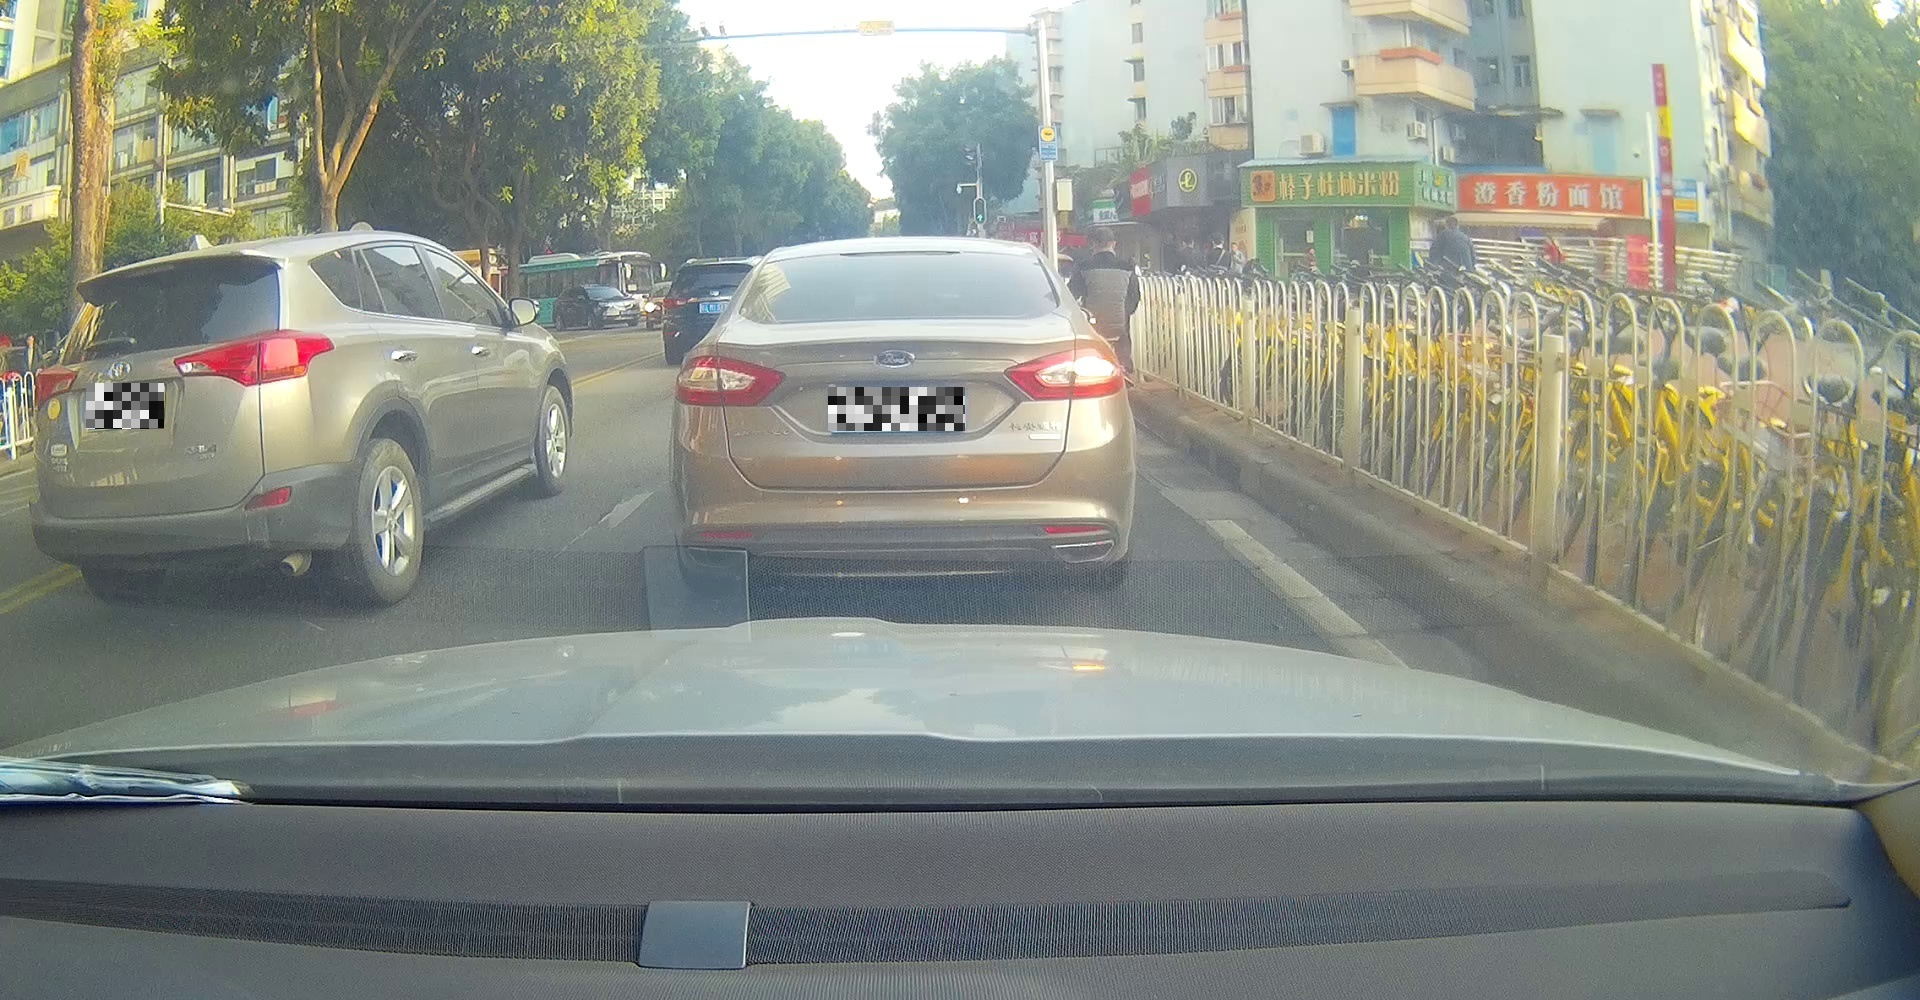L_light: (670, 354, 783, 409), (33, 362, 77, 409)
R_light: (171, 329, 334, 386), (1002, 345, 1128, 402)
T_light: (841, 251, 960, 258), (124, 272, 175, 280)
day-no: (668, 235, 1137, 588), (27, 246, 342, 605)
plate_1: (86, 383, 164, 429)
plate_2: (828, 387, 965, 431)
